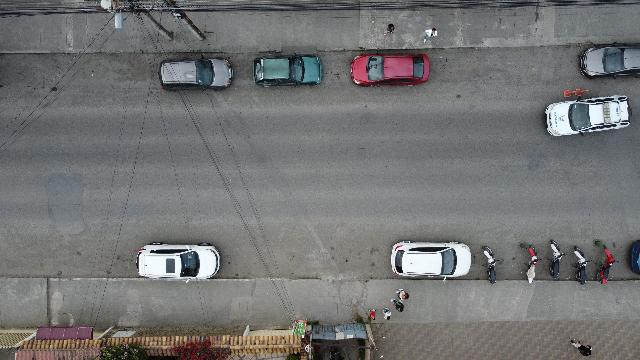Vehiculo: (545, 96, 631, 137), (136, 242, 220, 280), (391, 241, 471, 279), (350, 53, 430, 87), (158, 57, 234, 90), (254, 54, 322, 86), (580, 44, 640, 78)
